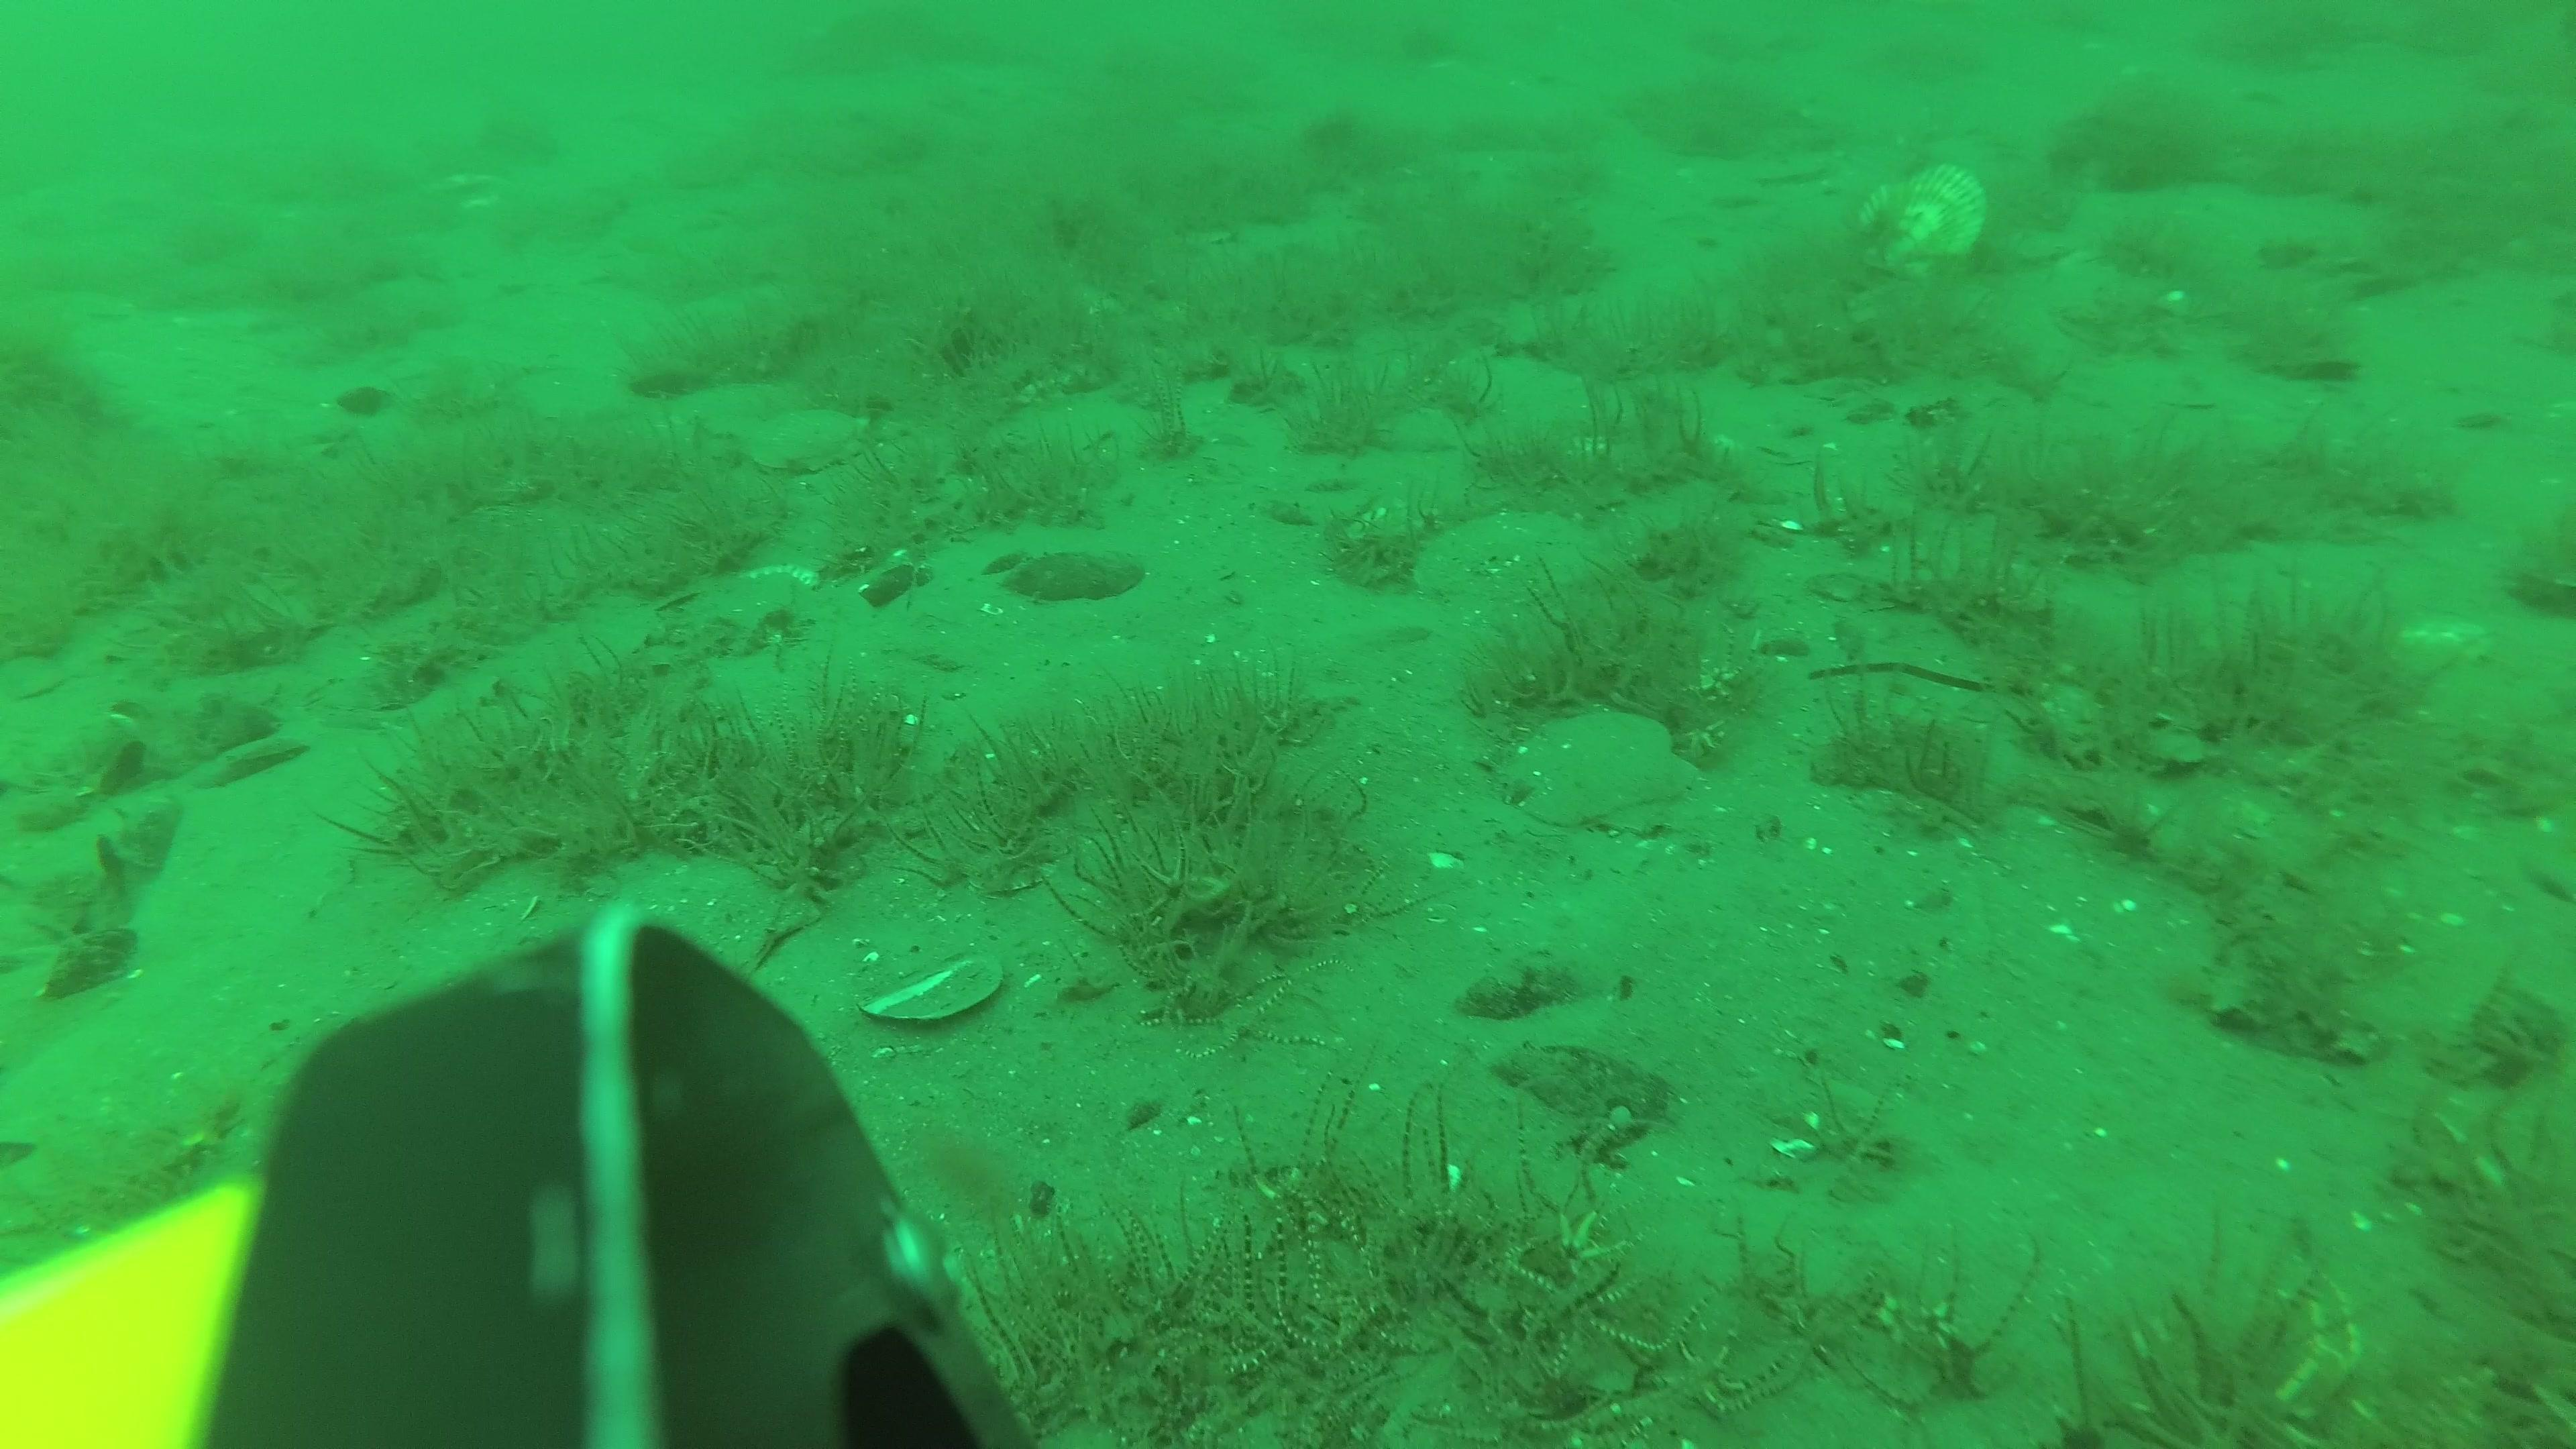scallop: (603, 858, 816, 1016), (1506, 717, 1695, 823), (1421, 506, 1603, 609), (1856, 163, 1989, 283), (755, 405, 872, 474), (679, 382, 809, 444)
